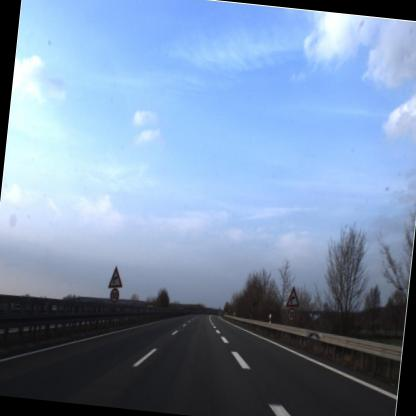danger: (104, 257, 124, 292), (282, 282, 302, 308)
prohibitory: (282, 306, 299, 324), (108, 286, 121, 306)
